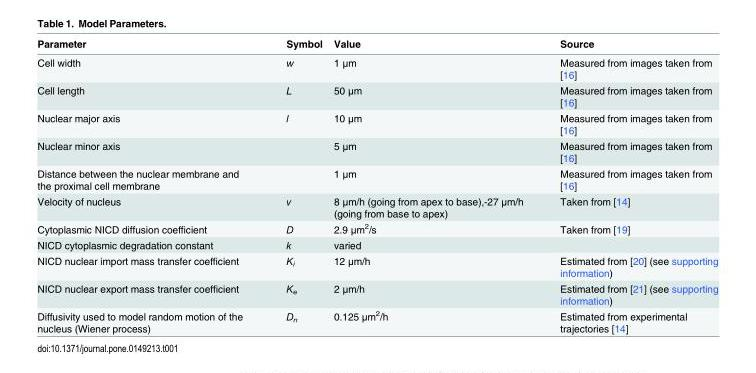table: (36, 37, 717, 333)
table column: (36, 37, 263, 333), (327, 37, 540, 333), (540, 37, 717, 333), (263, 37, 327, 333)
table column header: (36, 37, 717, 52)
table row: (36, 52, 717, 81), (36, 81, 717, 109), (36, 109, 717, 137), (36, 137, 717, 165), (36, 165, 717, 193), (36, 252, 717, 280), (36, 193, 717, 220), (36, 280, 717, 307), (36, 307, 717, 333), (36, 220, 717, 236), (36, 236, 717, 252), (36, 37, 717, 52)
